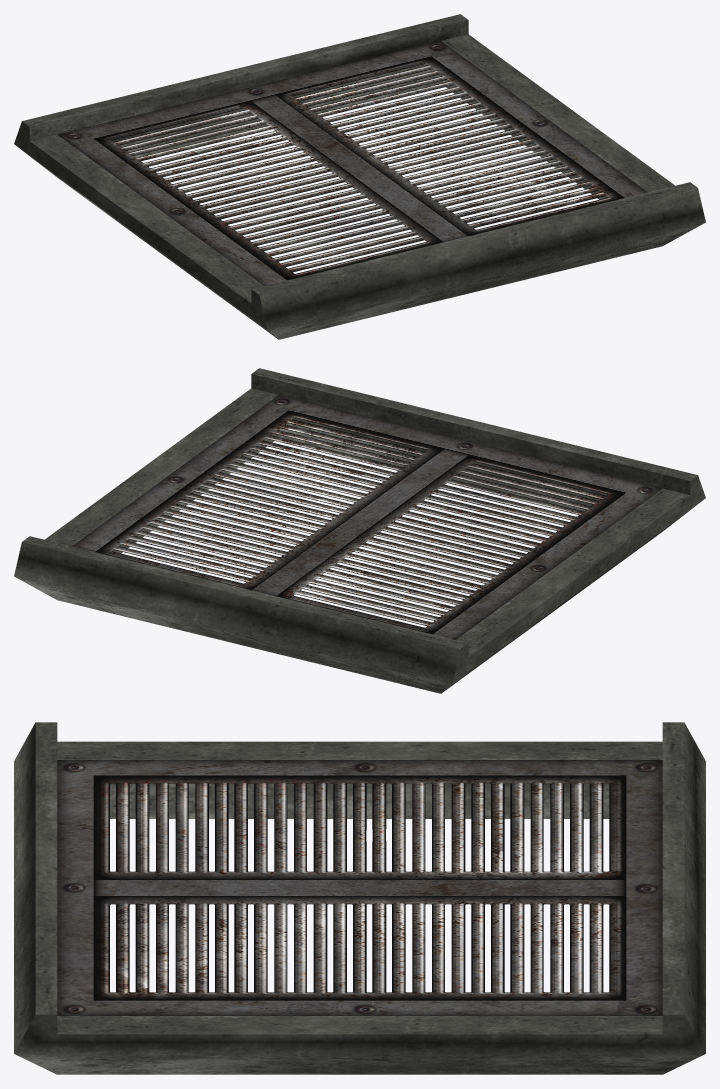
File: catwalk_B.fbx
The picture shows the model from 3 angles, top to bottom: view 1: azimuth 30°, elevation 25°; view 2: azimuth 150°, elevation 25°; view 3: azimuth 270°, elevation 25°; orthographic projection. The views are drawn at different scales.
Parts seen in each view (by area): view 1: polySurface486, pCube240; view 2: polySurface486, pCube240; view 3: polySurface486, pCube240.
Boxes of the visible parts, x1,y1,x2,y2 form: polySurface486: (57,41,647,285); pCube240: (14,14,705,339); polySurface486: (72,395,662,639); pCube240: (14,368,705,693); polySurface486: (57,760,662,1015); pCube240: (14,722,705,1074).
Bounding box in the file's own units: 800 × 100 × 800.
